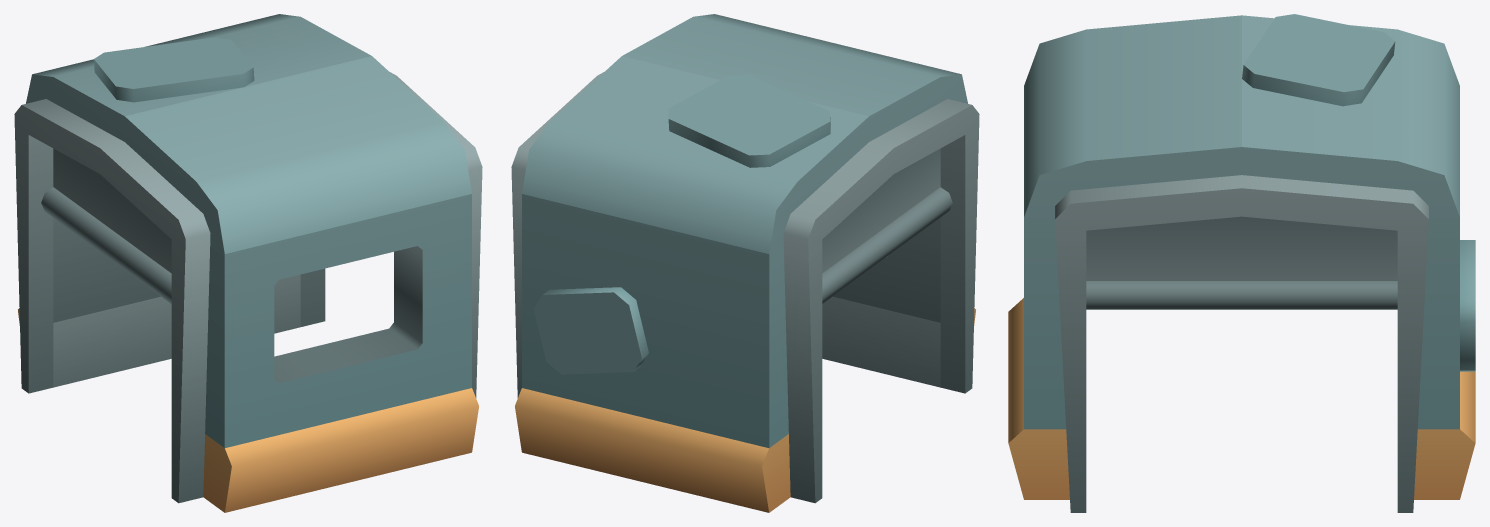
The model's file is machine.glb.
3 views of the same model, side by side, from view 1: azimuth 30°, elevation 25°; view 2: azimuth 150°, elevation 25°; view 3: azimuth 270°, elevation 25° (orthographic). The views are drawn at different scales.
Visible parts, largest first — view 1: machine; view 2: machine; view 3: machine.
Part boxes in pixels (x1,y1,x2,y2): machine: (14, 14, 482, 512); machine: (511, 14, 979, 512); machine: (1008, 14, 1475, 512).
Bounding box in the file's own units: 1.2 × 1.3 × 1.5.
Materials: 1 (1 with a texture image).
